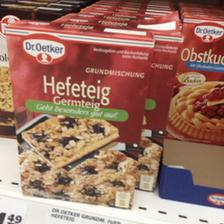Kuchen: (3, 17, 155, 216)
